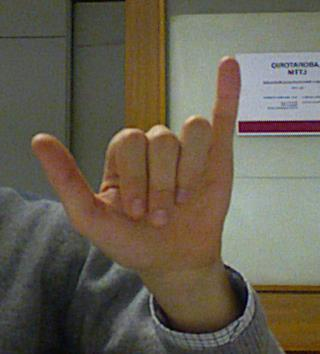clockwise: (24, 45, 246, 273)
